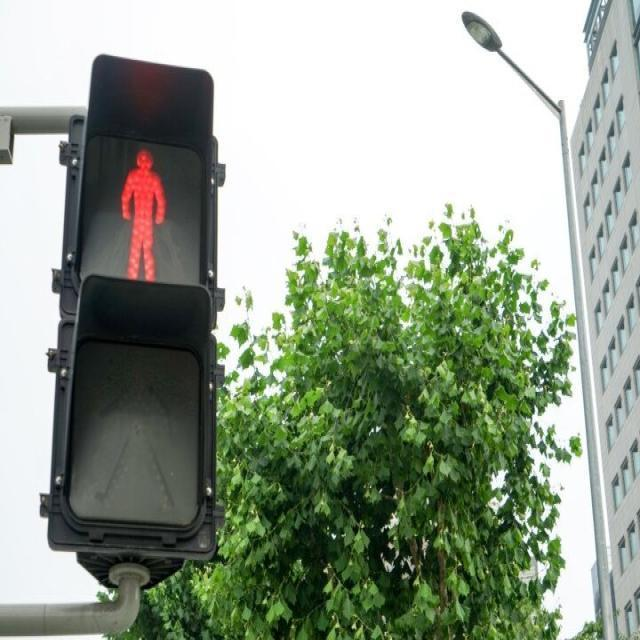red_light: (88, 140, 195, 284)
